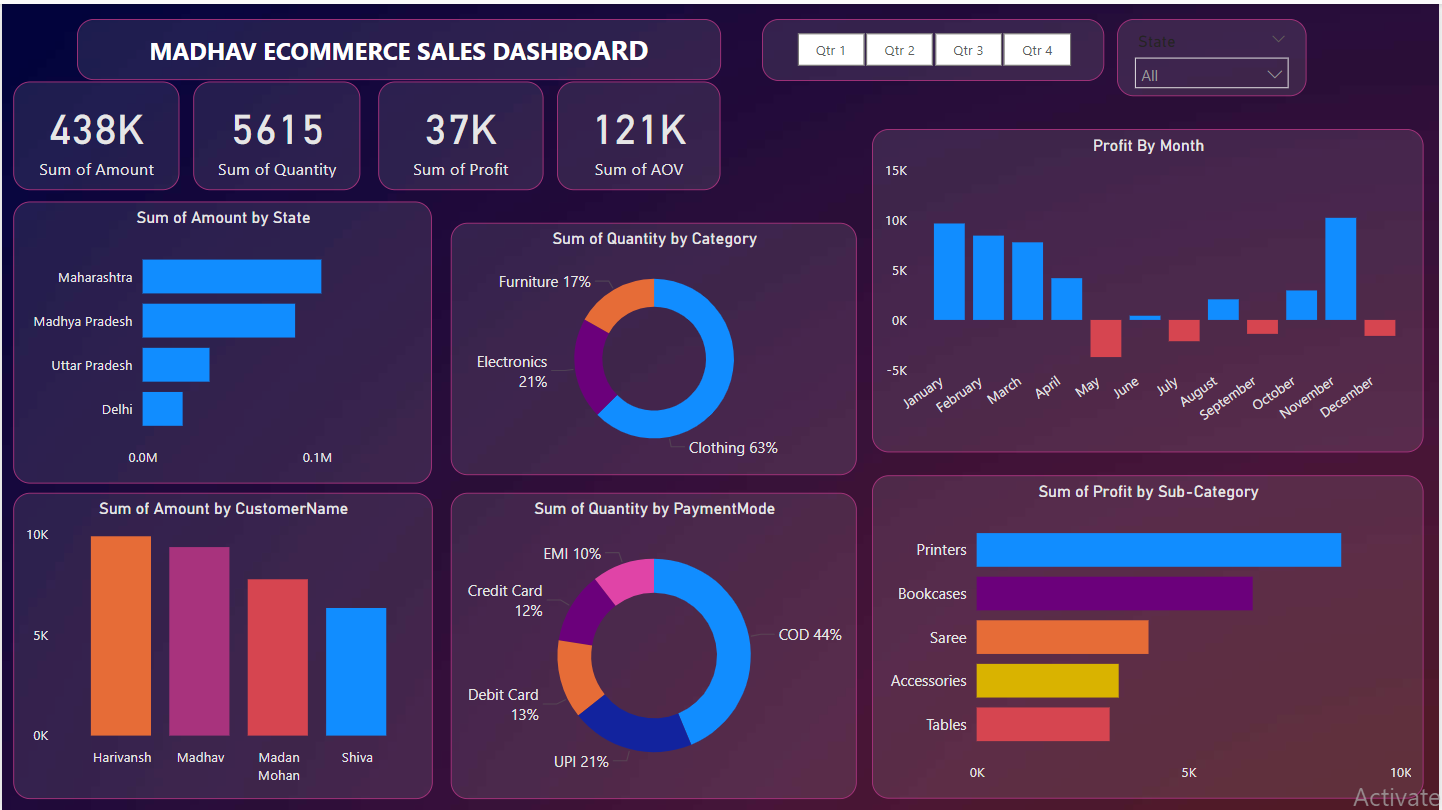

The dashboard page shown, as its layout file describes it:
{"tool":"powerbi","page":{"name":"Page 1","canvas":[1280,720],"ordinal":0},"visuals":[{"type":"textbox","box":[66.8,13.4,573.3,54.5],"z":0},{"type":"columnChart","title":"Profit By Month","fields":{"Y":["Details.Profit"],"Category":["Orders.Order Date.Variation.Date Hierarchy.Month"]},"box":[775.3,111.1,491.3,288.2],"z":1000},{"type":"barChart","fields":{"Category":["Details.Sub-Category"],"Y":["Details.Profit"]},"box":[775.3,419.9,491.3,288.2],"z":2000},{"type":"donutChart","fields":{"Category":["Details.Category"],"Y":["Details.Quantity"]},"box":[399.6,194.8,361.8,224.9],"z":3000},{"type":"donutChart","fields":{"Y":["Details.Quantity"],"Category":["Details.PaymentMode"]},"box":[399.6,435.3,361.8,272.7],"z":4000},{"type":"card","fields":{"Values":["Details.Amount"]},"box":[10,69,148.1,96.8],"z":5000},{"type":"card","fields":{"Values":["Details.Quantity"]},"box":[170.3,69,149.2,96.8],"z":6000},{"type":"card","fields":{"Values":["Details.Profit"]},"box":[335.1,69,146.9,96.8],"z":7000},{"type":"card","fields":{"Values":["Details.AOV"]},"box":[494.3,69,145.8,96.8],"z":8000},{"type":"barChart","fields":{"Y":["Details.Amount"],"Category":["Orders.State"]},"box":[10,175.9,372.9,251.6],"z":9000},{"type":"columnChart","fields":{"Category":["Orders.CustomerName"],"Y":["Details.Amount"]},"box":[9.6,435,373.2,273.1],"z":10000},{"type":"slicer","fields":{"Values":["Orders.Order Date.Variation.Date Hierarchy.Quarter"]},"box":[676.5,13.7,304.6,54.9],"z":11000},{"type":"slicer","fields":{"Values":["Orders.State"]},"box":[993.5,13.7,168.8,68.6],"z":12000}]}

Visuals, with their boxes in screenshot pixels (x1, y1, x2, y2), scaled from the page's 1280x720 canvas onto the 1442x810 screenshot:
textbox: 75, 15, 721, 76
"Profit By Month" columnChart: 873, 125, 1427, 449
barChart - Details.Sub-Category x Details.Profit: 873, 472, 1427, 797
donutChart - Details.Category x Details.Quantity: 450, 219, 858, 472
donutChart - Details.Quantity x Details.PaymentMode: 450, 490, 858, 796
card - Details.Amount: 11, 78, 178, 187
card - Details.Quantity: 192, 78, 360, 187
card - Details.Profit: 378, 78, 543, 187
card - Details.AOV: 557, 78, 721, 187
barChart - Details.Amount x Orders.State: 11, 198, 431, 481
columnChart - Orders.CustomerName x Details.Amount: 11, 489, 431, 797
slicer - Orders.Order Date.Variation.Date Hierarchy.Quarter: 762, 15, 1105, 77
slicer - Orders.State: 1119, 15, 1309, 93
